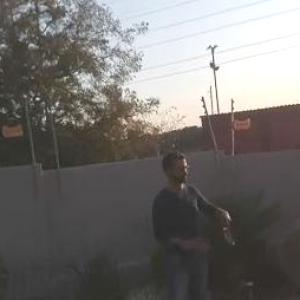follow: (142, 143, 246, 299)
